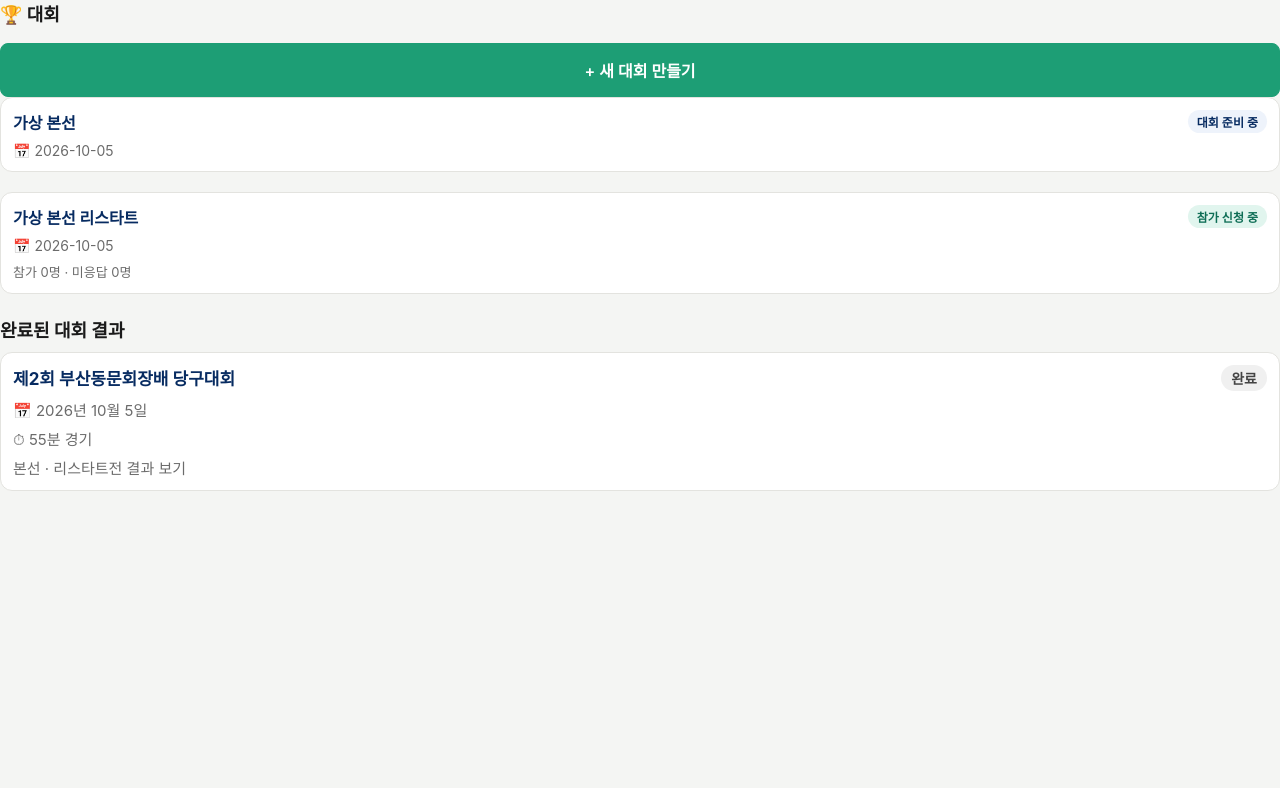
Test case: 리스타트 대회 자동 연결 (이름 규칙: 본선 이름 + " 리스타트전") › "리스타트"라는 단어가 있어도 이름이 다른 대회는 연결하지 않고, 정확한 이름의 대회를 자동으로 만든다(다른 대회는 그대로)
Click the text "가상 본선".
click(44, 122)  # box [13, 110, 76, 134]
(page scrolled)
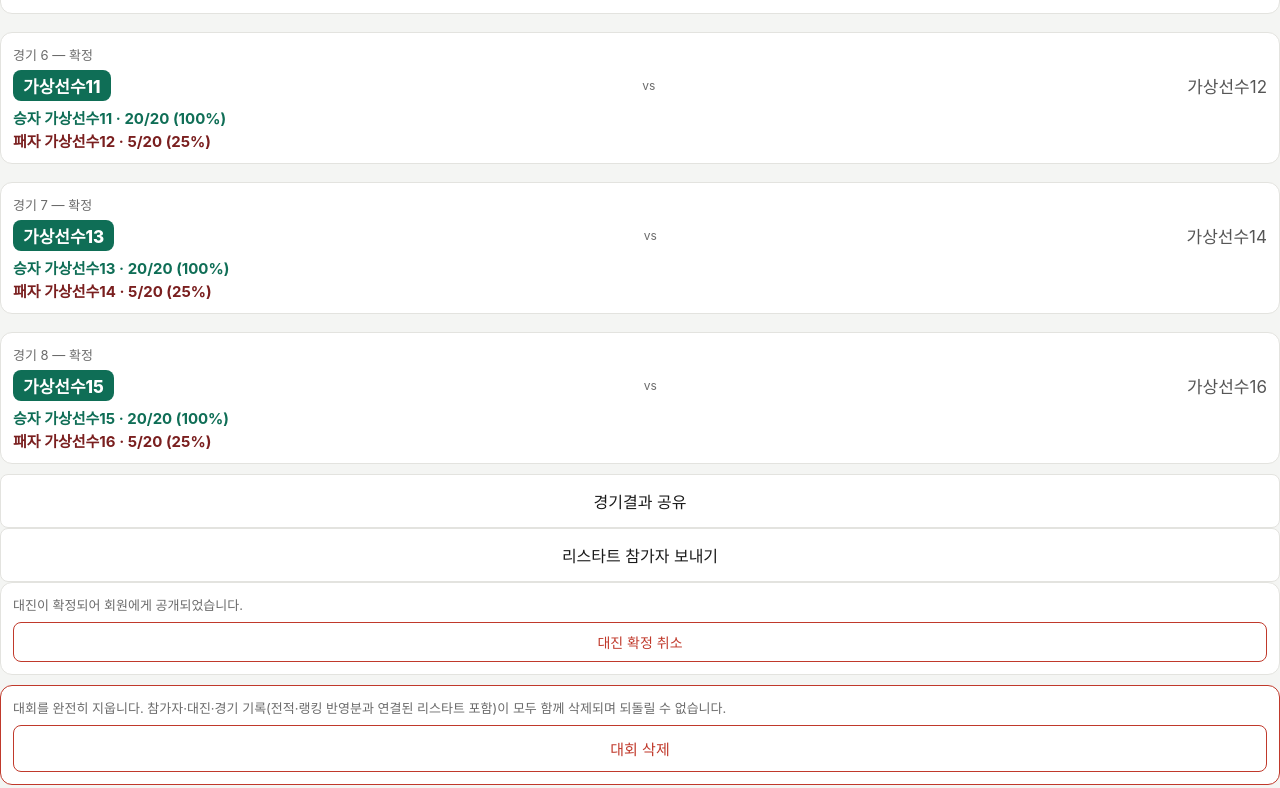
Click the button "리스타트 참가자 보내기".
click(640, 555)  # box [0, 528, 1279, 582]
(page scrolled)
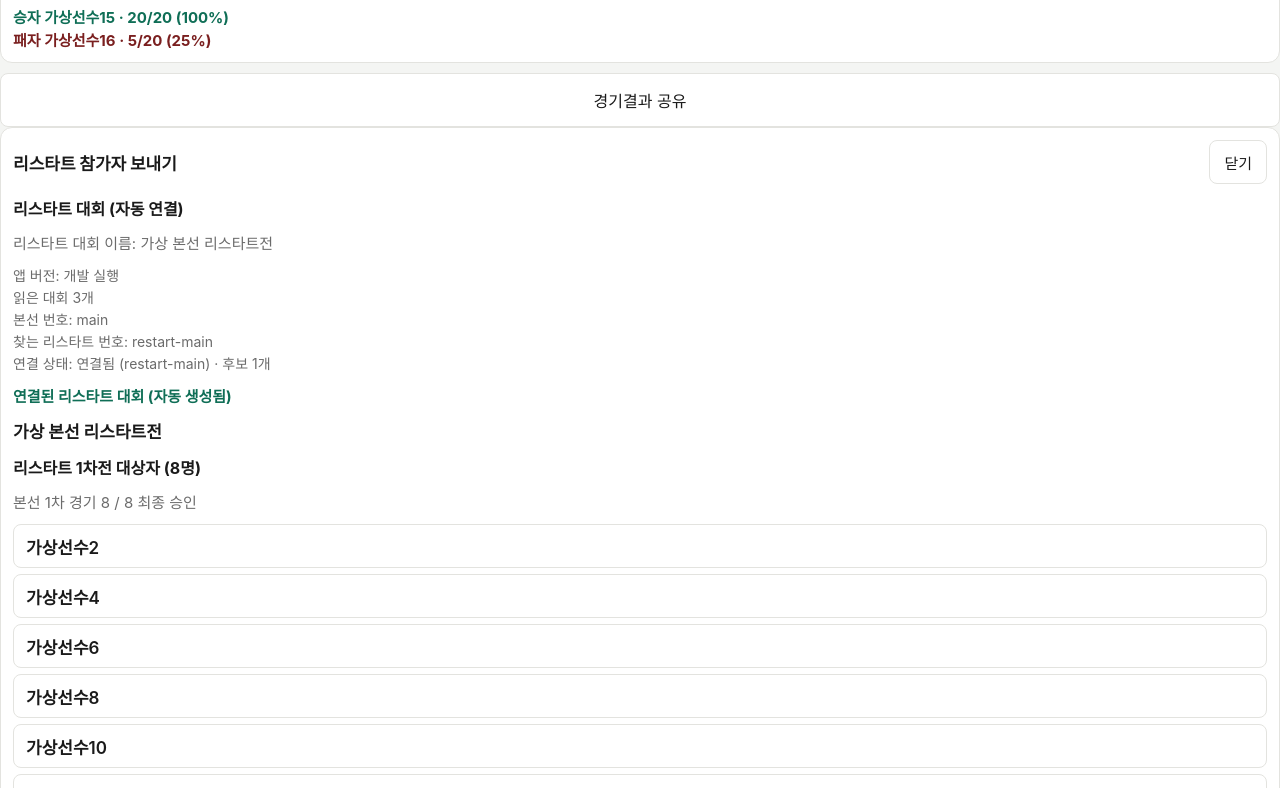
Now the text "연결된 리스타트 대회 (자동 생성됨)" is shown, box [13, 387, 232, 406]
